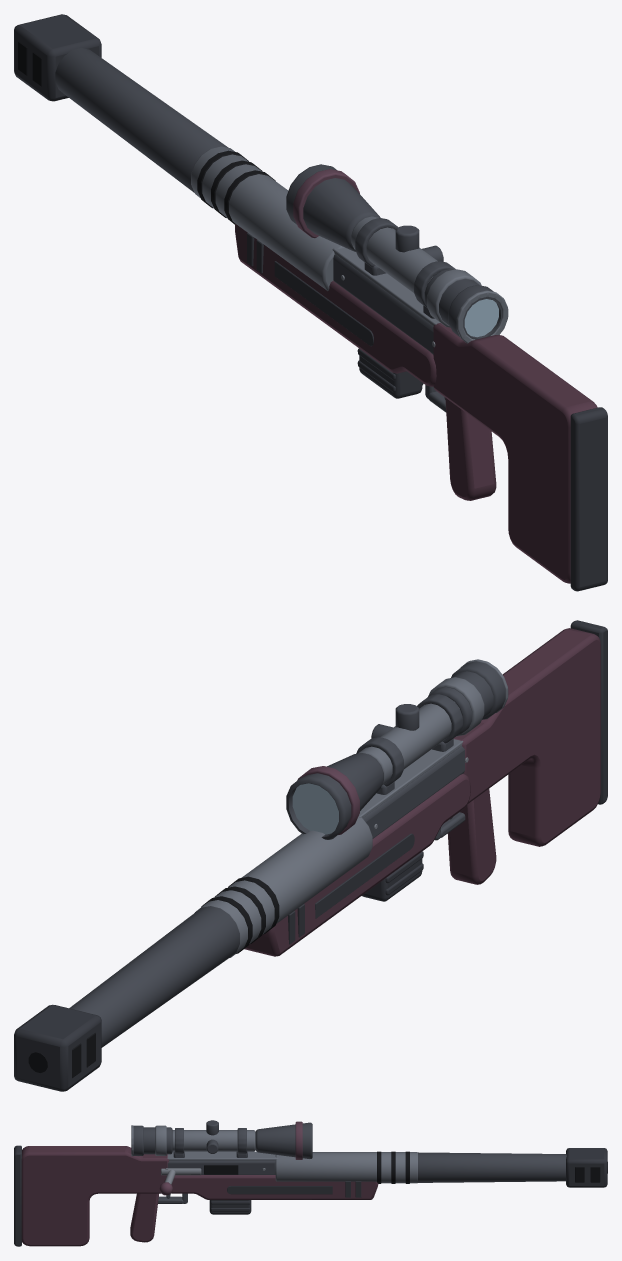
The model's file is w_sniper.glb.
3 renders of one model, top to bottom at view 1: azimuth 30°, elevation 25°; view 2: azimuth 150°, elevation 25°; view 3: azimuth 270°, elevation 25°, orthographic. The views are drawn at different scales.
Parts seen in each view (by area): view 1: stock_wzA, barrel_wzB.001, scope_wzN.001, barrel_wzB, stock_wzB, scope_wzN, barrel_wzB.002, body_wzB, stock_wzN, mag_wzB, deck_wzB, barrel_wzN (+2 smaller); view 2: stock_wzA, barrel_wzB.001, scope_wzN.001, barrel_wzB, barrel_wzB.002, scope_wzN, body_wzB, lens_wzN, stock_wzN, stock_wzB, deck_wzB, barrel_wzN (+3 smaller); view 3: stock_wzA, barrel_wzB.001, barrel_wzB, scope_wzN.001, scope_wzN, barrel_wzB.002, body_wzB, stock_wzN, deck_wzB, stock_wzB, trim_wzN, mag_wzB (+5 smaller).
Part boxes in pixels (<box>): stock_wzA: <box>235,224,597,583</box>; barrel_wzB.001: <box>55,47,228,192</box>; scope_wzN.001: <box>286,164,502,339</box>; barrel_wzB: <box>191,146,344,290</box>; stock_wzB: <box>570,407,607,591</box>; scope_wzN: <box>351,216,508,343</box>; barrel_wzB.002: <box>14,14,101,101</box>; body_wzB: <box>333,254,433,354</box>; stock_wzN: <box>274,261,373,346</box>; mag_wzB: <box>357,348,423,398</box>; deck_wzB: <box>332,248,440,325</box>; barrel_wzN: <box>197,150,275,224</box>; stock_wzA: <box>244,628,600,956</box>; barrel_wzB.001: <box>69,906,239,1047</box>; scope_wzN.001: <box>286,661,505,839</box>; barrel_wzB: <box>195,817,372,957</box>; barrel_wzB.002: <box>14,1004,101,1091</box>; scope_wzN: <box>359,659,508,785</box>; body_wzB: <box>363,746,464,838</box>; lens_wzN: <box>292,783,338,834</box>; stock_wzN: <box>315,833,414,918</box>; stock_wzB: <box>570,620,607,804</box>; deck_wzB: <box>358,739,463,817</box>; barrel_wzN: <box>201,876,279,953</box>; stock_wzA: <box>21,1146,378,1246</box>; barrel_wzB.001: <box>418,1152,566,1182</box>; barrel_wzB: <box>275,1152,417,1183</box>; scope_wzN.001: <box>133,1120,312,1158</box>; scope_wzN: <box>131,1125,255,1156</box>; barrel_wzB.002: <box>566,1148,607,1187</box>; body_wzB: <box>167,1160,275,1174</box>; stock_wzN: <box>227,1186,332,1194</box>; deck_wzB: <box>167,1151,278,1160</box>; stock_wzB: <box>14,1145,21,1246</box>; trim_wzN: <box>204,1162,607,1182</box>; mag_wzB: <box>209,1200,251,1214</box>.
Size of the model in its own units: 0.187 by 0.4635 by 2.08.
